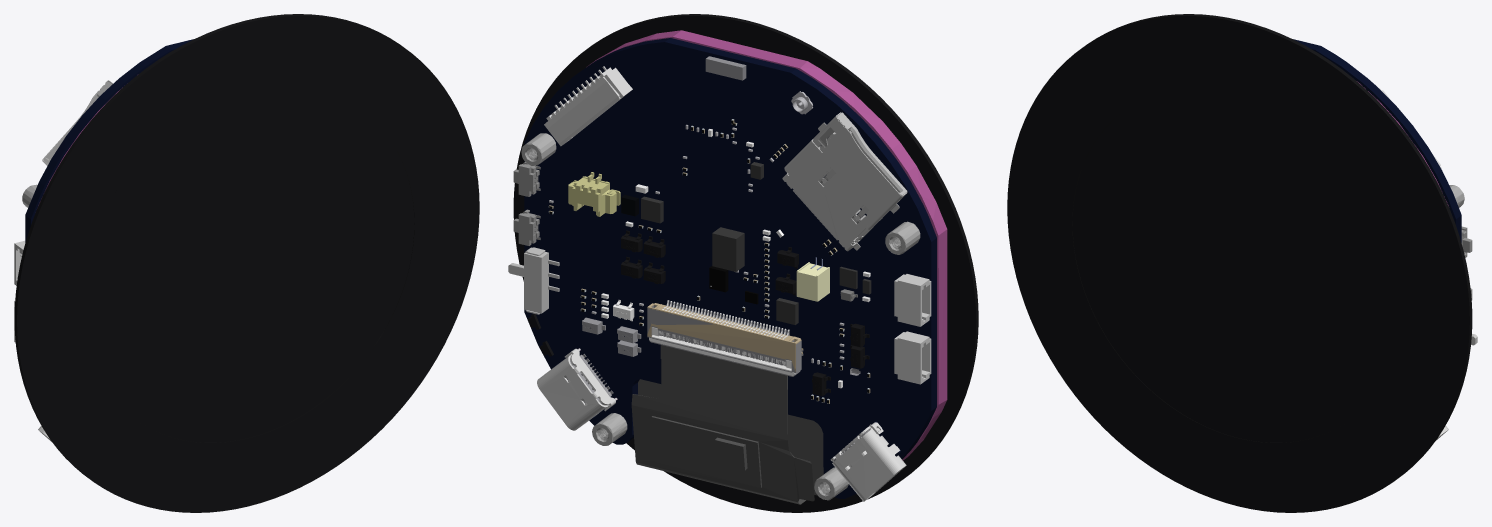
Rendered from waveshare-esp32-s3-touch-lcd-21.glb.
The picture shows the model from 3 angles, left to right: view 1: azimuth 30°, elevation 25°; view 2: azimuth 150°, elevation 25°; view 3: azimuth 330°, elevation 25°; orthographic projection.
Visible parts, largest first — view 1: waveshare-esp32-s3-touch-lcd-21; view 2: waveshare-esp32-s3-touch-lcd-21; view 3: waveshare-esp32-s3-touch-lcd-21.
Boxes of the visible parts, left/top/right/bottom form: waveshare-esp32-s3-touch-lcd-21: left=14, top=14, right=479, bottom=512; waveshare-esp32-s3-touch-lcd-21: left=508, top=14, right=978, bottom=512; waveshare-esp32-s3-touch-lcd-21: left=1007, top=14, right=1477, bottom=512.
Size of the model in its own units: 75 by 75 by 9.5.
